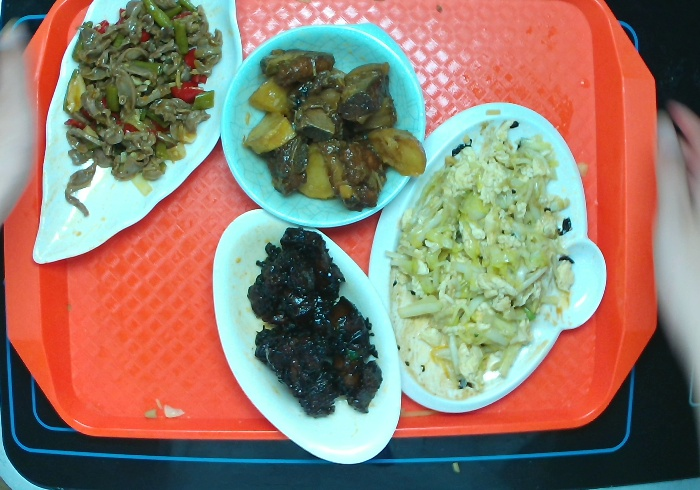RJxy-Bai_Se_Tuo_Yuan: (209, 200, 402, 465)
RJxy-Shu_Ye_Pan: (24, 1, 248, 270)
RJxy-Xiao_Jiao_Yuan_Wan: (222, 10, 437, 232)
RJxy-Zhan_Liao_Pan: (366, 97, 608, 420)
